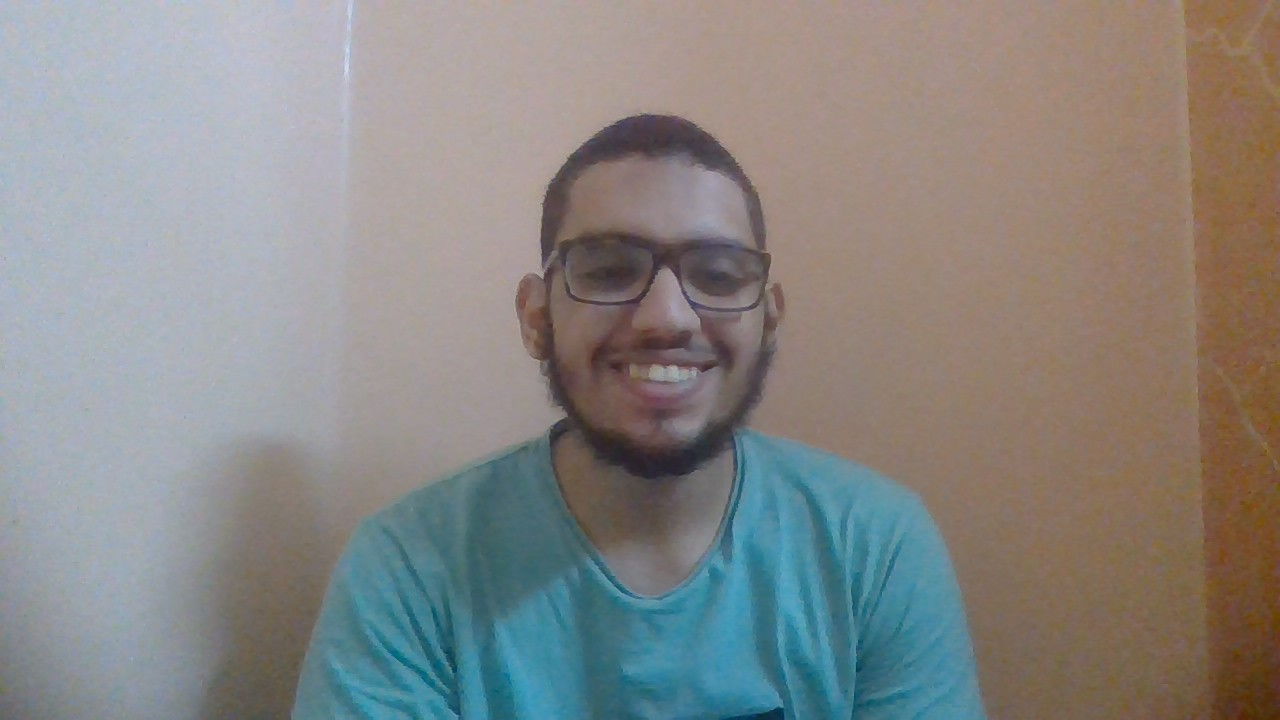Nomask: (514, 296, 774, 472)
